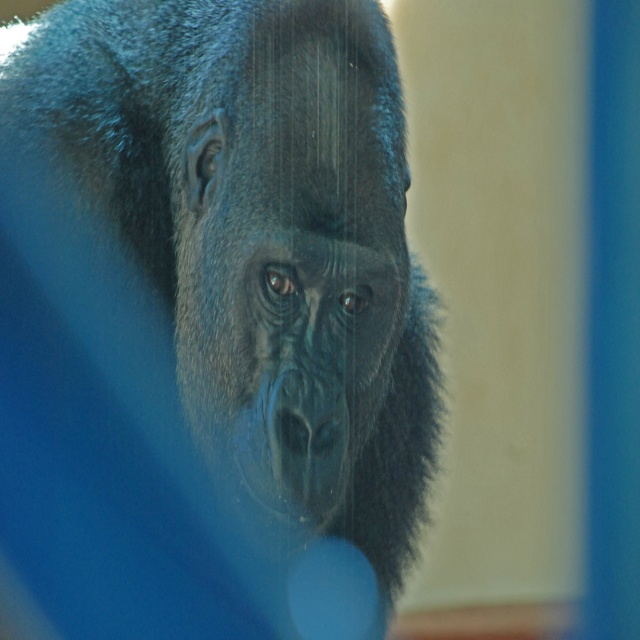Monkey: (16, 0, 452, 635)
